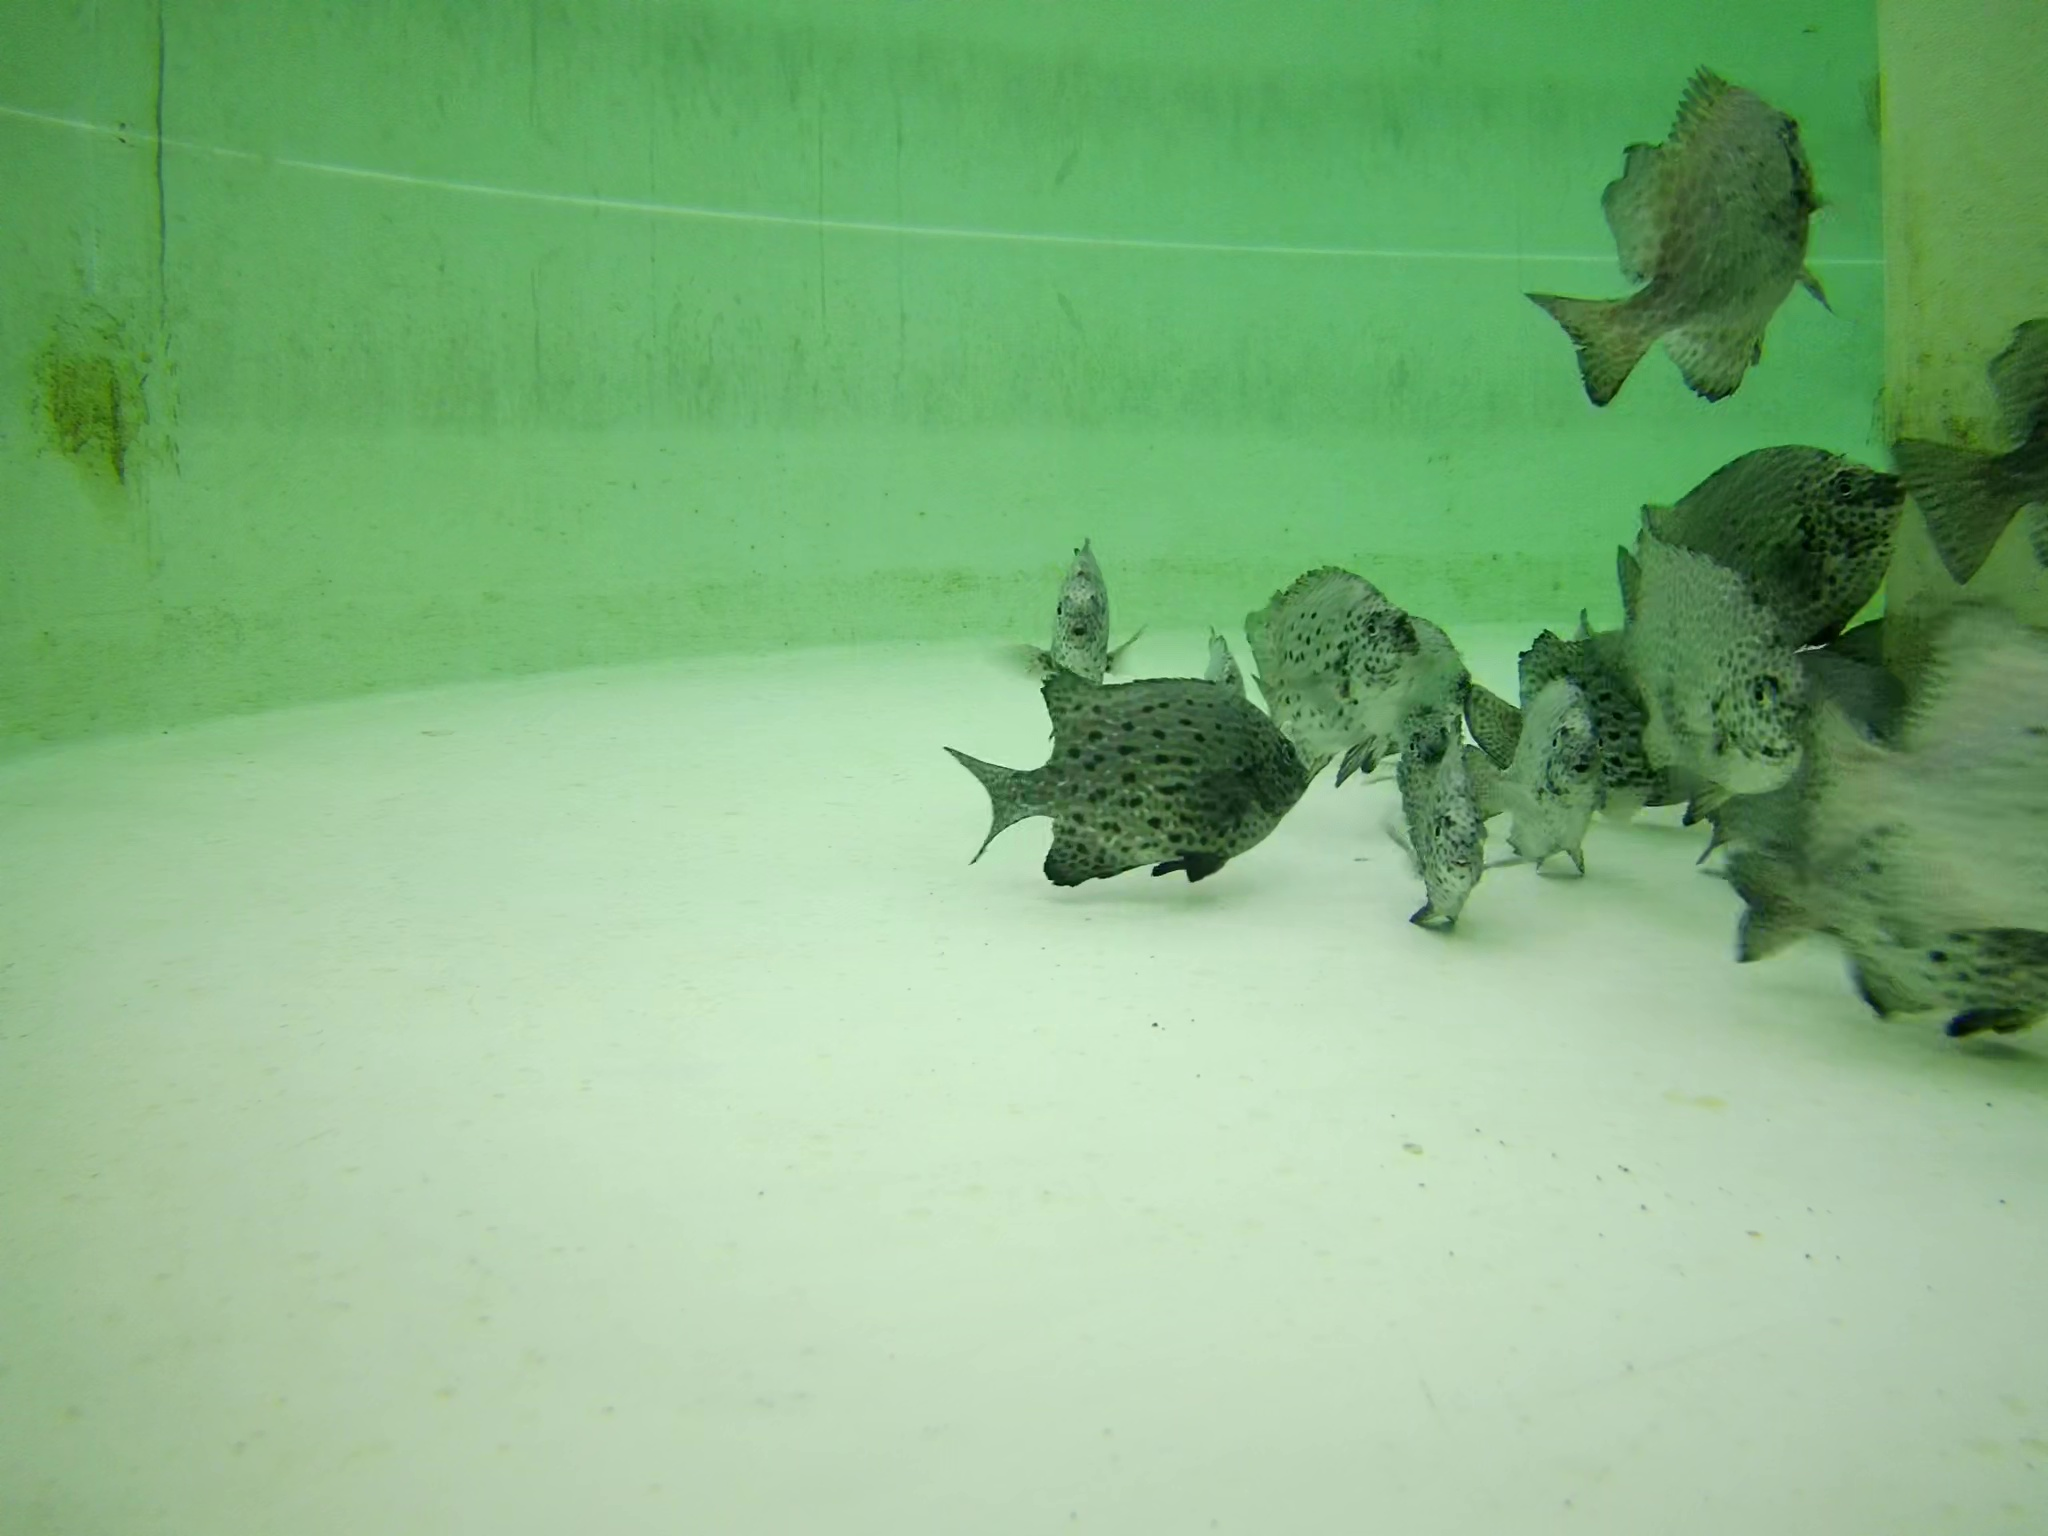fish: (1537, 82, 1838, 390), (1784, 626, 2048, 926), (948, 679, 1316, 883), (1732, 829, 2048, 1036), (1593, 511, 1806, 792), (1656, 437, 1913, 631), (1908, 307, 2048, 578), (1198, 561, 1408, 742), (1490, 628, 1675, 816), (1484, 678, 1606, 876), (1685, 781, 1932, 865), (1408, 705, 1495, 937), (1313, 610, 1458, 739), (1014, 529, 1109, 710)
